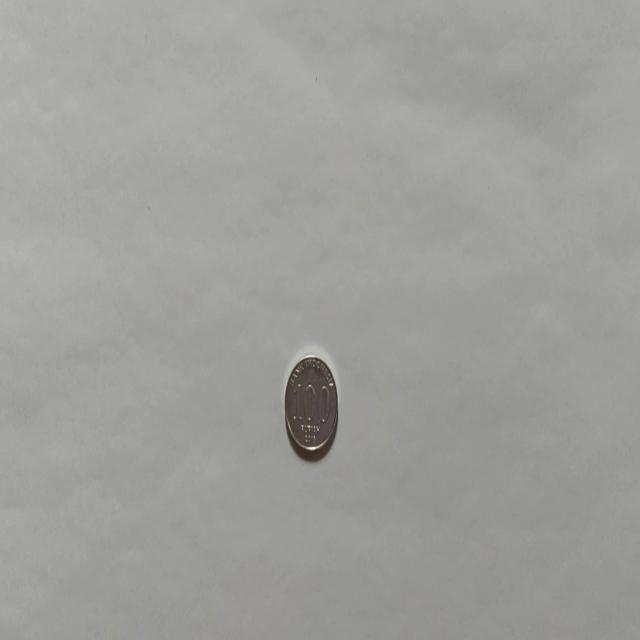seratus rupiah: (284, 354, 338, 458)
